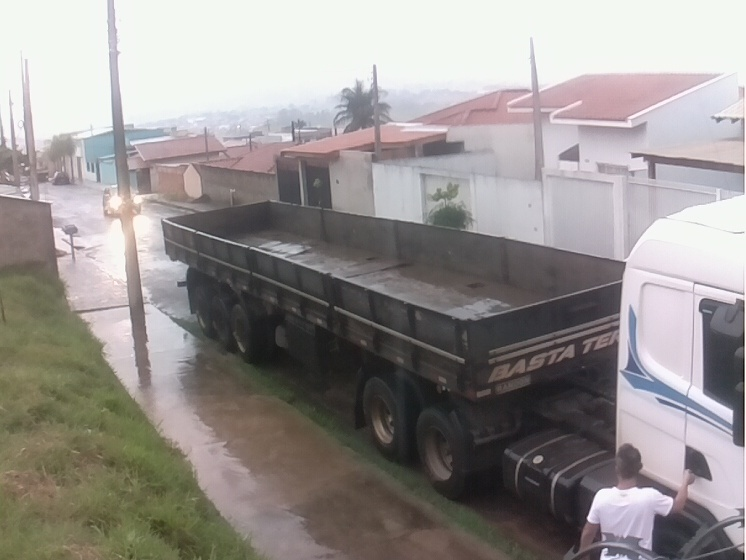person: (576, 441, 697, 560)
